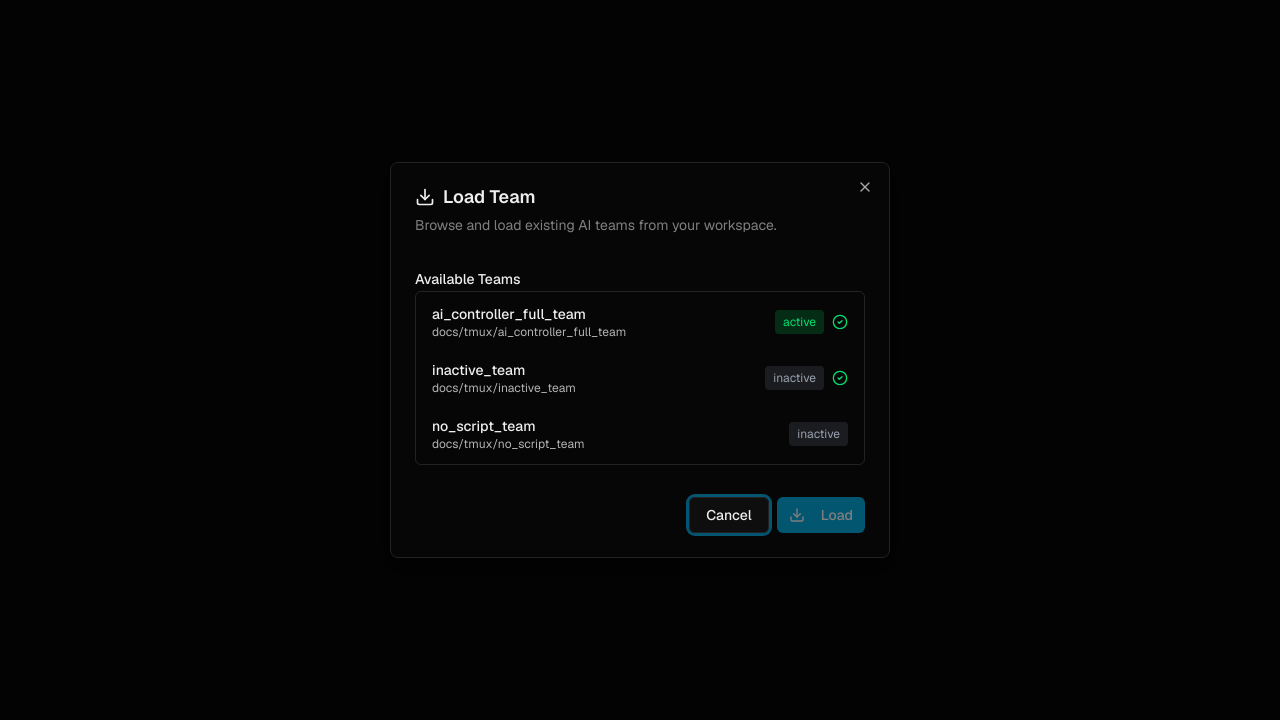
Test: LoadTeamDialog › should allow selecting a team
Click the text "ai_controller_full_team" at (509, 314), box left=432, top=305, right=586, bottom=323
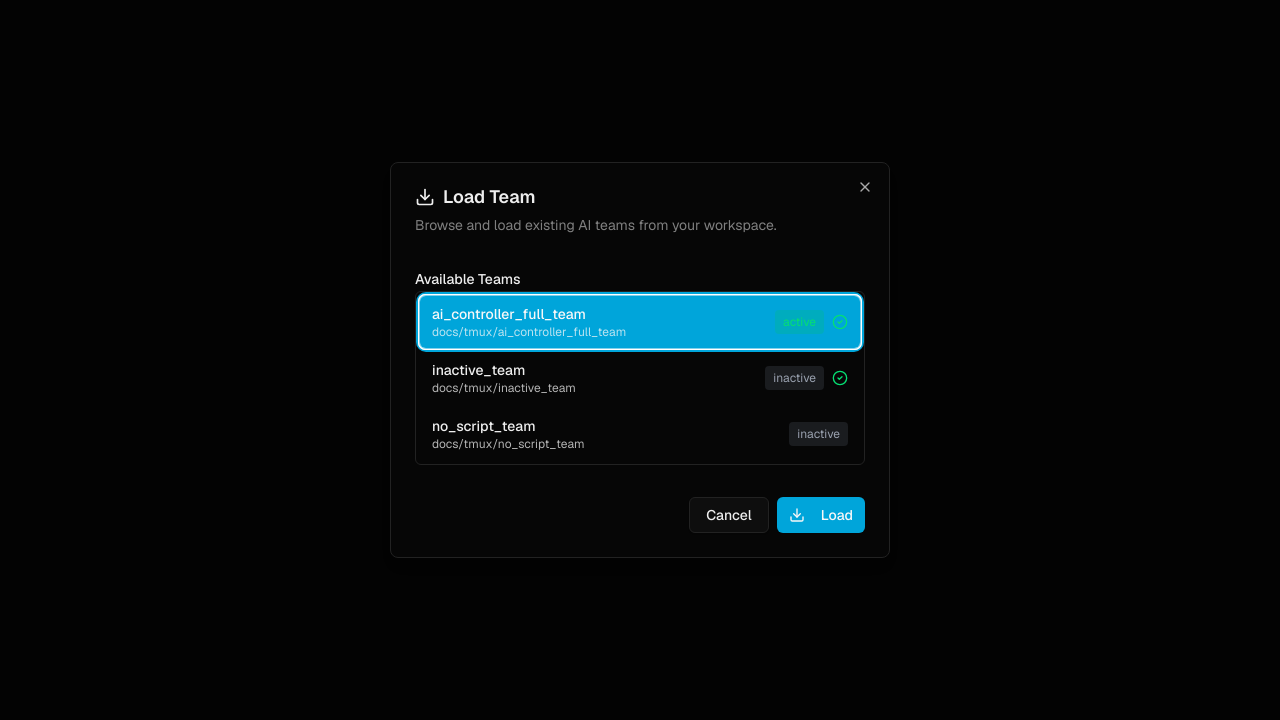
Expected: the button "Load" is enabled, left=777, top=497, right=865, bottom=533
